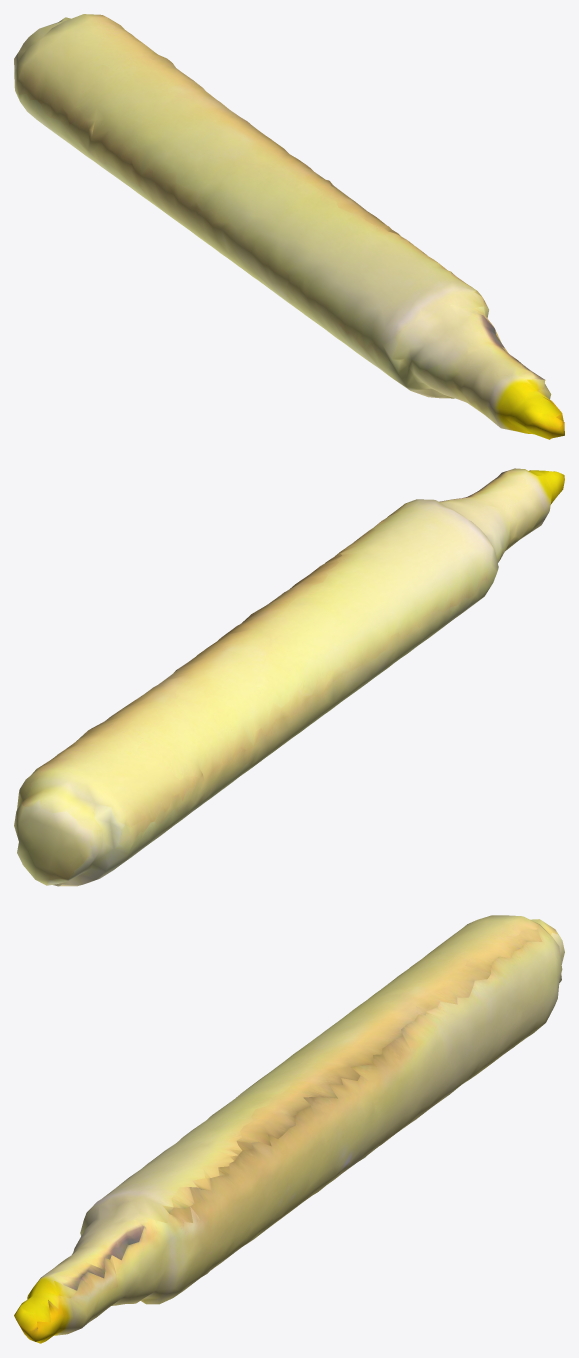
File: scan_align.obj
3 views of the same model, one above another, from view 1: azimuth 30°, elevation 25°; view 2: azimuth 150°, elevation 25°; view 3: azimuth 330°, elevation 25° (orthographic).
Size of the model in its own units: 0.0153 by 0.0158 by 0.1245.
Materials: 1 (1 with a texture image).
